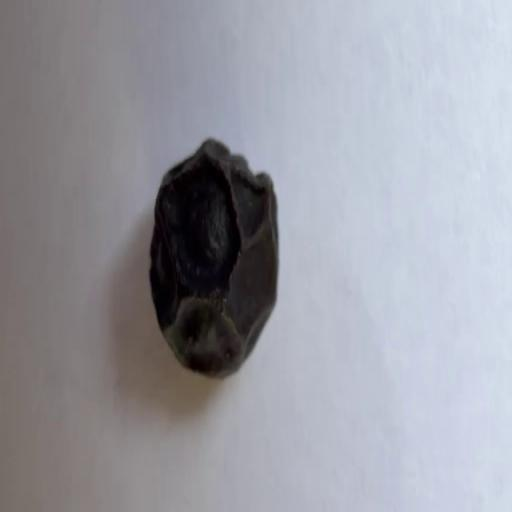Black_pepper: (130, 83, 298, 428)
